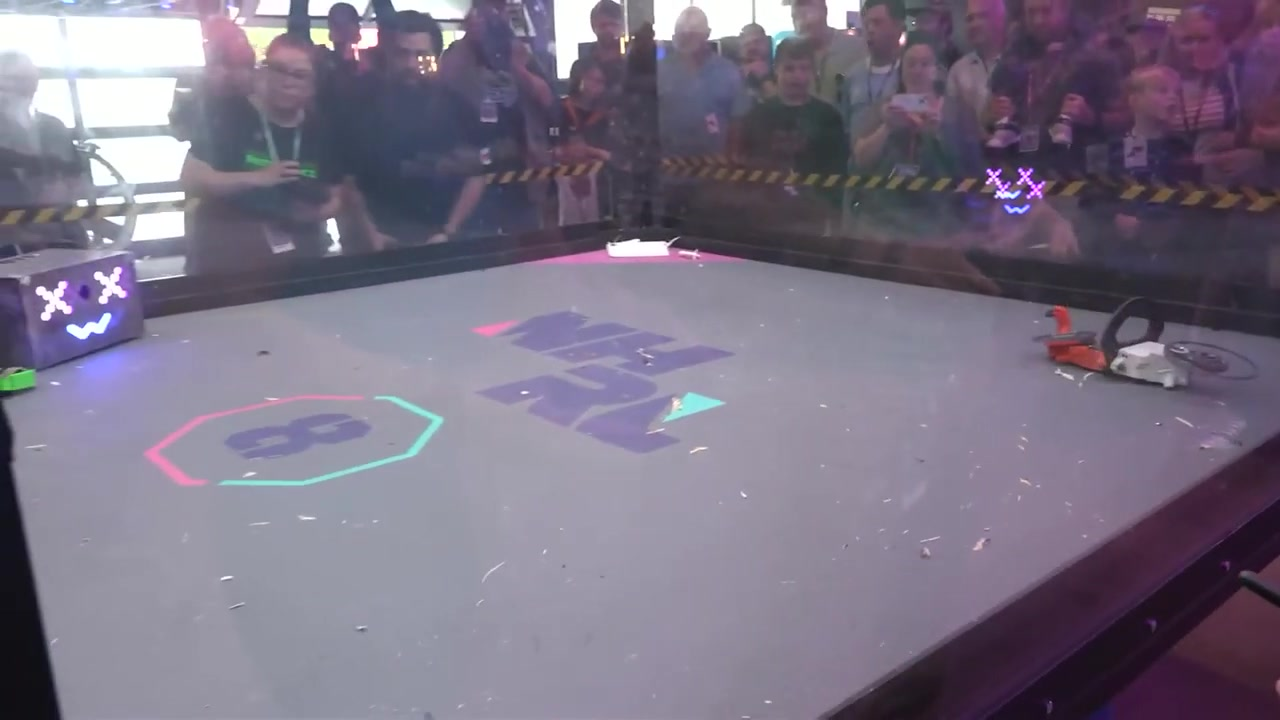combatbot: (1033, 332, 1259, 397), (603, 234, 674, 258), (3, 363, 41, 396)
housebot: (0, 249, 145, 373)
